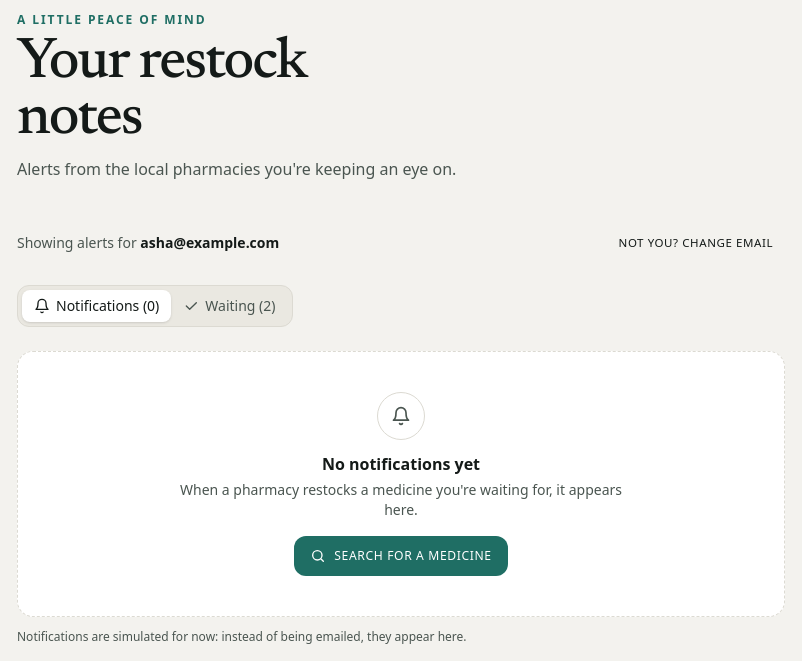
Test: NotificationsPage with an email › lists what you are waiting for, and cancels it
Click the button "Waiting (2)" at (229, 306), box [171,290,288,322]
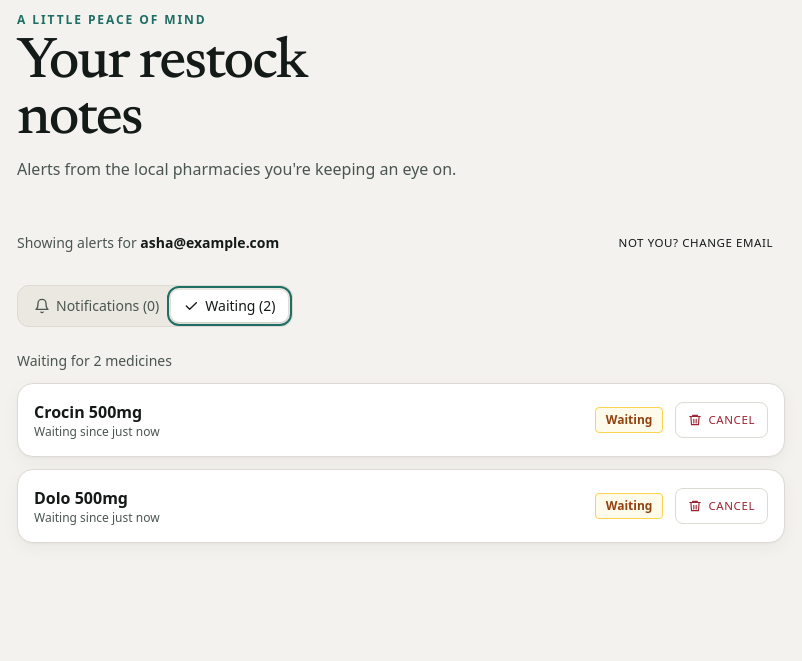
Result: the text "Dolo 500mg" is shown at [34,487,128,509]
Click the button with aria-label "stop waiting for Dolo" at (722, 506), box [675,488,768,524]
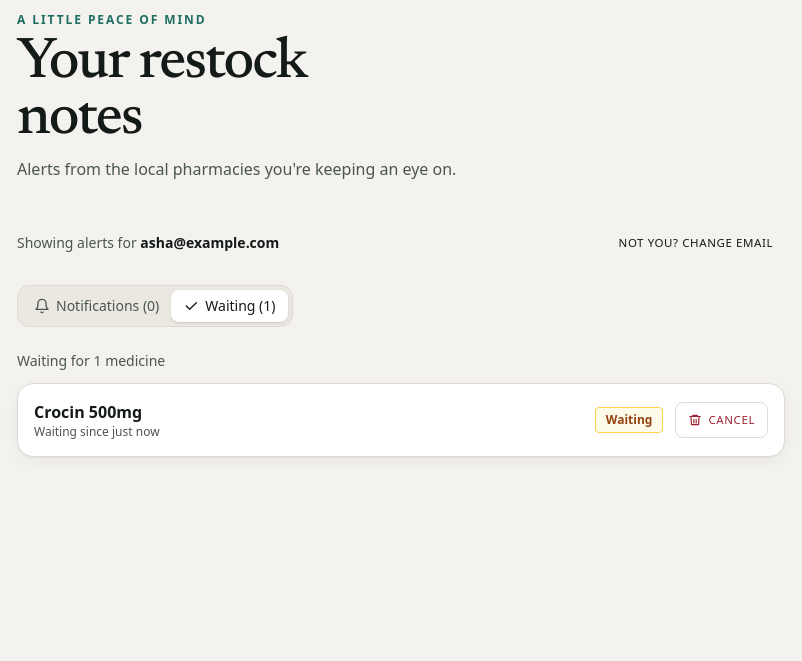
Expected: the text "asha@example.com" is shown, [140,233,279,252]
Result: the text "Crocin 500mg" is shown at [34,401,142,423]
Result: the text "Dolo 500mg" is gone
